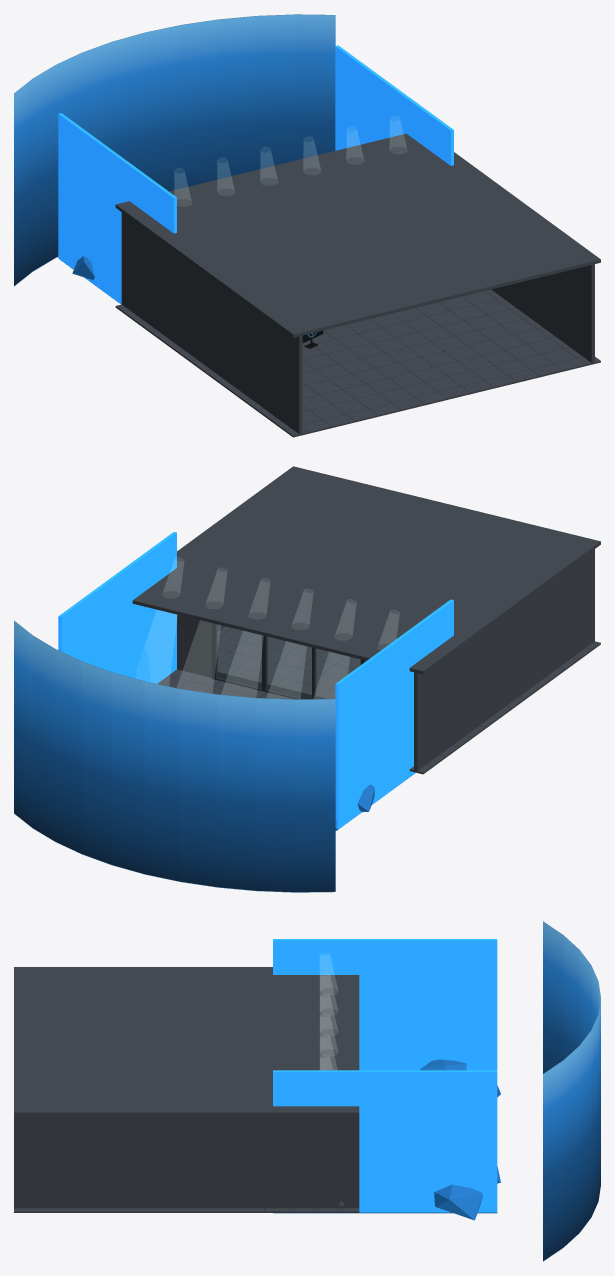
Rendered from ending.glb.
3 renders of one model, top to bottom at view 1: azimuth 30°, elevation 25°; view 2: azimuth 150°, elevation 25°; view 3: azimuth 270°, elevation 25°, orthographic. The views are drawn at different scales.
Visible parts, largest first — view 1: r5_shell, backdrop_room5_water, tank_interior, tank_shafts; view 2: r5_shell, backdrop_room5_water, tank_interior, tank_shafts, tank_frame; view 3: r5_shell, tank_interior, backdrop_room5_water, tank_shafts.
Part boxes in pixels (x1,y1,x2,y2): r5_shell: [115, 133, 600, 437]; backdrop_room5_water: [14, 14, 335, 286]; tank_interior: [58, 45, 453, 304]; tank_shafts: [175, 119, 406, 199]; r5_shell: [132, 466, 600, 774]; backdrop_room5_water: [14, 620, 335, 892]; tank_interior: [58, 532, 453, 830]; tank_shafts: [145, 560, 398, 698]; tank_frame: [211, 623, 365, 699]; r5_shell: [14, 967, 359, 1212]; tank_interior: [273, 939, 500, 1220]; backdrop_room5_water: [543, 921, 600, 1261]; tank_shafts: [320, 954, 337, 1069].
Bounding box in the file's own units: 41.94 × 24 × 68.
13 materials, 2 textured.
